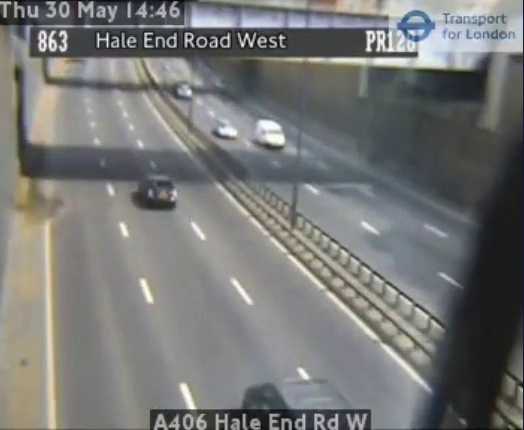car: (139, 176, 178, 207)
